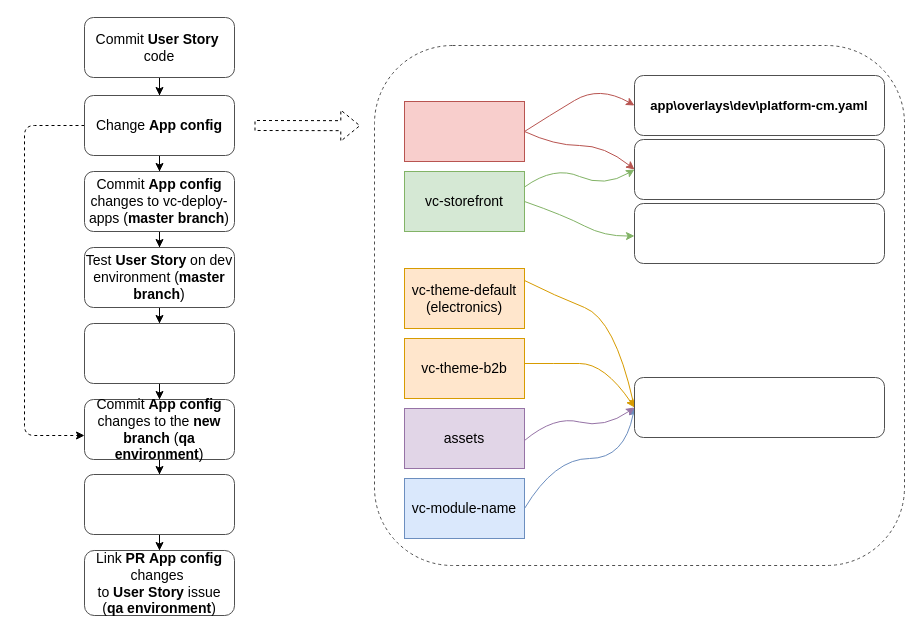
Some shapes in this 922 by 634 pixel diagram are drawn without their labels. The shapes that lost their labels are listed below. From the top down, each one's centre as x and y in pixels, then its label:
At point 464,131: "vc-platform".
At point 759,169: "app\overlays\dev\kustomization.yaml".
At point 759,233: "app\overlays\dev\storefront-cm.yaml".
At point 159,353: "Create new branch from qa ( qa environment )".
At point 759,407: "app\overlays\dev\deployment-cm.yaml".
At point 159,504: "Create PR App config to the qa branch ( qa environment )".
